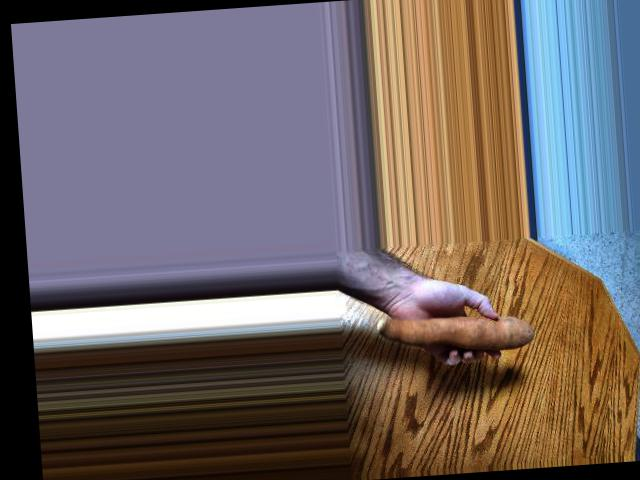sweet_potato: (382, 311, 542, 369)
